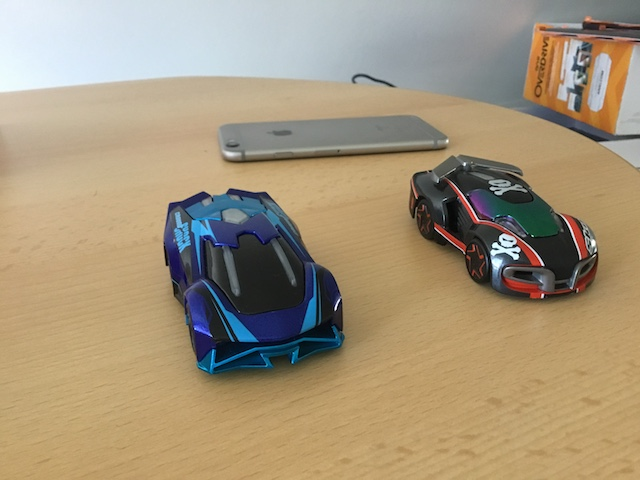car-blue: (159, 185, 350, 381)
car-red: (406, 150, 603, 304)
phone: (216, 111, 453, 166)
